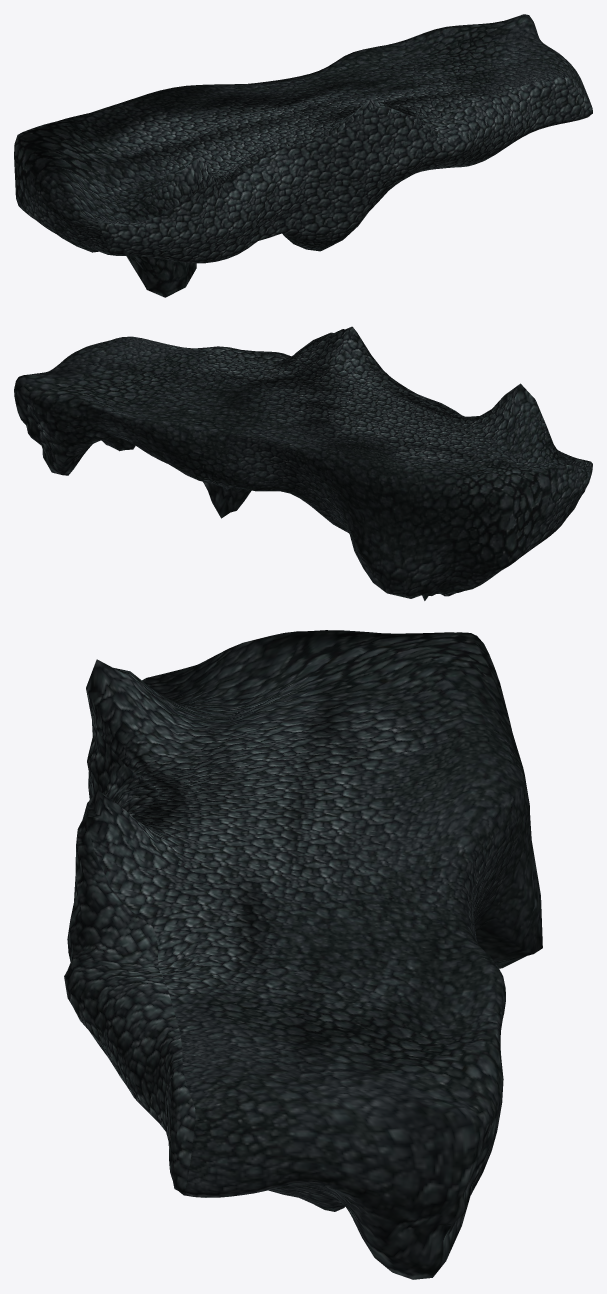
The picture shows the model from 3 angles, top to bottom: view 1: azimuth 30°, elevation 25°; view 2: azimuth 150°, elevation 25°; view 3: azimuth 270°, elevation 25°; orthographic projection. The views are drawn at different scales.
Visible parts, largest first — view 1: L_piece_A; view 2: L_piece_A; view 3: L_piece_A.
Boxes of the visible parts, x1,y1,x2,y2 form: L_piece_A: (14, 14, 592, 297); L_piece_A: (14, 326, 592, 600); L_piece_A: (64, 630, 542, 1279).
Size of the model in its own units: 519 by 189 by 210.
